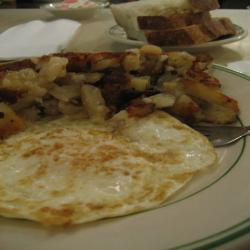bread: (111, 1, 235, 46)
omelette: (1, 114, 210, 214)
